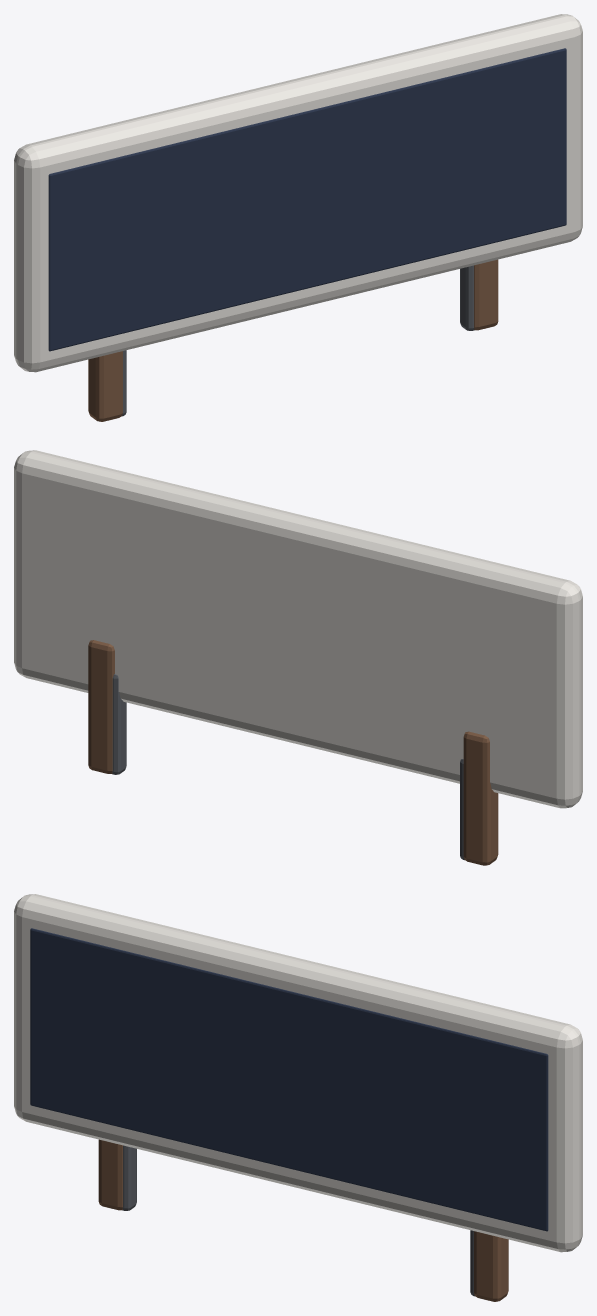
Rendered from sign.glb.
3 views of the same model, one above another, from view 1: azimuth 30°, elevation 25°; view 2: azimuth 150°, elevation 25°; view 3: azimuth 330°, elevation 25° (orthographic).
Visible parts, largest first — view 1: SignNew, SignHand; view 2: SignNew, SignHand; view 3: SignNew, SignHand.
Boxes of the visible parts, x1,y1,x2,y2 form: SignNew: (14, 14, 582, 416); SignHand: (88, 259, 498, 421); SignNew: (14, 450, 582, 860); SignHand: (88, 640, 498, 865); SignNew: (14, 894, 582, 1296); SignHand: (98, 1139, 508, 1301).
Bounding box in the file's own units: 1.26 × 0.63 × 0.083.
